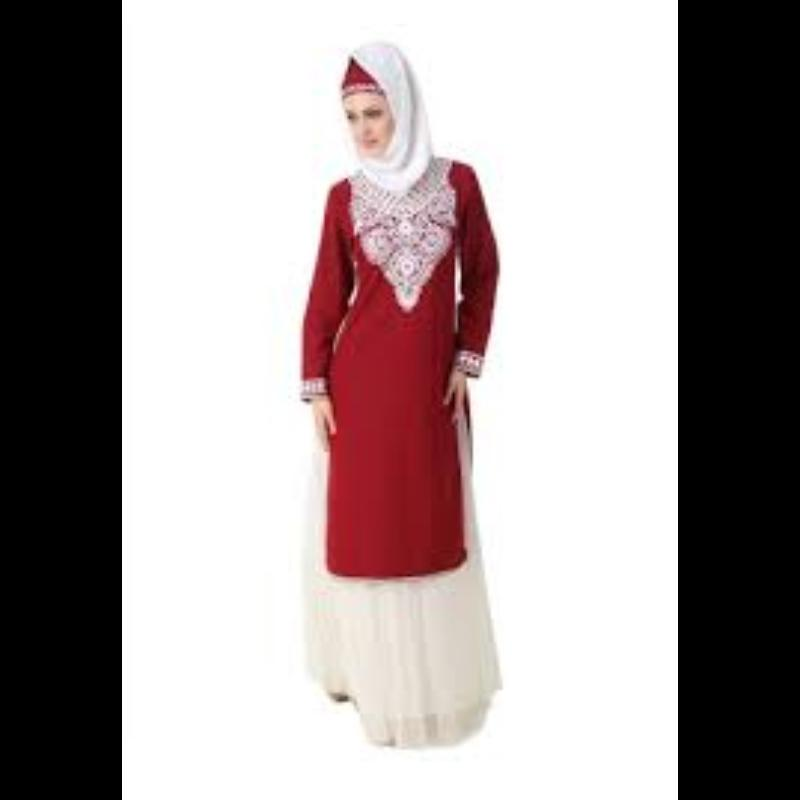Churidaar: (303, 157, 526, 731)
Hijab: (334, 47, 436, 221)
